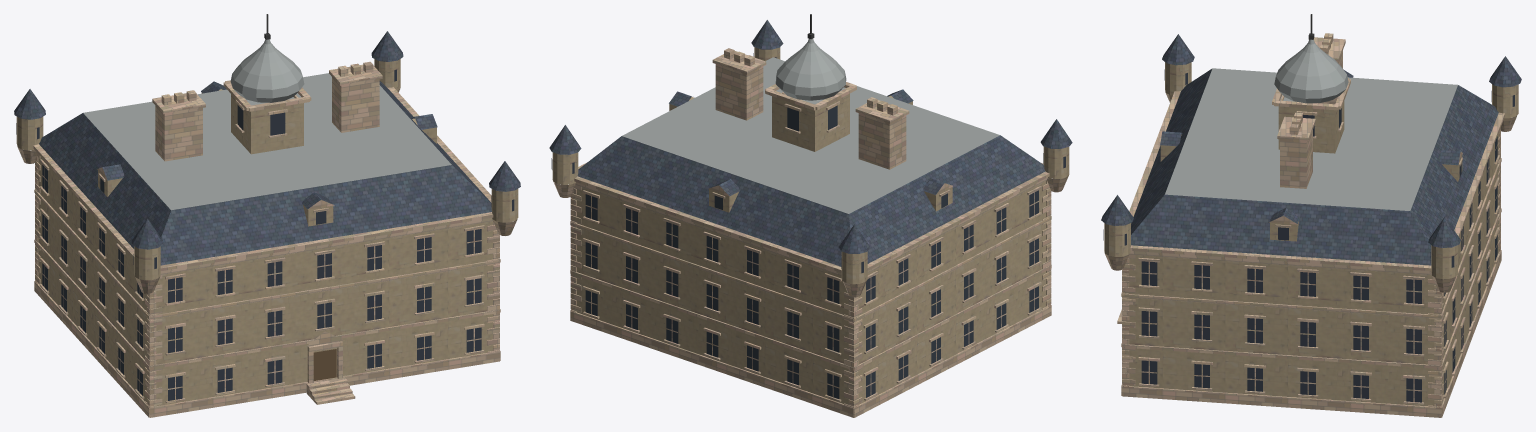
3 views of the same model, side by side, from view 1: azimuth 30°, elevation 25°; view 2: azimuth 150°, elevation 25°; view 3: azimuth 270°, elevation 25° (orthographic). The views are drawn at different scales.
Parts seen in each view (by area): view 1: b001066_wall, b001066_dressed, b001066_slate, b001066_lead, b001066_glass, b001066_oak; view 2: b001066_wall, b001066_dressed, b001066_slate, b001066_lead, b001066_glass; view 3: b001066_wall, b001066_lead, b001066_slate, b001066_dressed, b001066_glass.
Part boxes in pixels (box(x1,y1,x2,y2)): b001066_wall: box(16, 59, 518, 406); b001066_dressed: box(17, 61, 517, 417); b001066_slate: box(14, 31, 520, 265); b001066_lead: box(83, 39, 451, 210); b001066_glass: box(16, 69, 514, 400); b001066_oak: box(313, 349, 336, 380); b001066_wall: box(552, 47, 1069, 404); b001066_dressed: box(553, 48, 1068, 417); b001066_slate: box(549, 20, 1072, 266); b001066_lead: box(622, 38, 999, 213); b001066_glass: box(551, 53, 1065, 398); b001066_wall: box(1104, 62, 1518, 406); b001066_lead: box(1165, 39, 1457, 210); b001066_slate: box(1101, 34, 1521, 265); b001066_dressed: box(1104, 33, 1516, 417); b001066_glass: box(1103, 69, 1514, 402).
Size of the model in its own units: 29.34 by 21.82 by 26.52.
7 materials, 3 textured.
